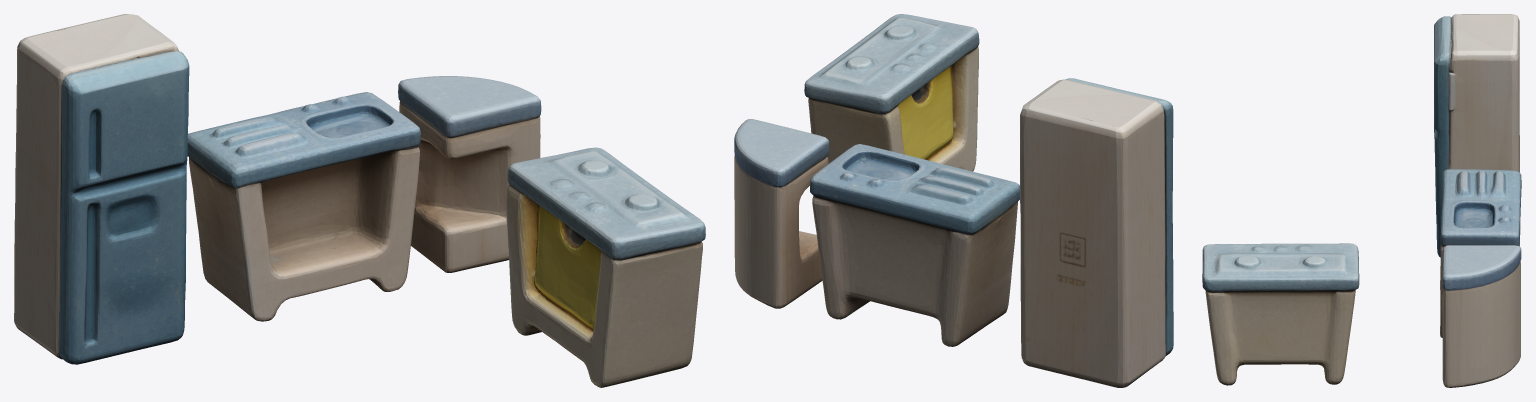
Rendered from KITCHEN_FURNITURE_SET_ori.glb.
3 views of the same model, side by side, from view 1: azimuth 30°, elevation 25°; view 2: azimuth 150°, elevation 25°; view 3: azimuth 270°, elevation 25° (orthographic). The views are drawn at different scales.
Visible parts, largest first — view 1: world; view 2: world; view 3: world.
Part boxes in pixels (x1=…): world: x1=14, y1=14, x2=705, y2=387; world: x1=734, y1=14, x2=1173, y2=387; world: x1=1202, y1=14, x2=1521, y2=387.
Bounding box in the file's own units: 0.9971 × 0.5866 × 0.8014.
1 material, 1 textured.
